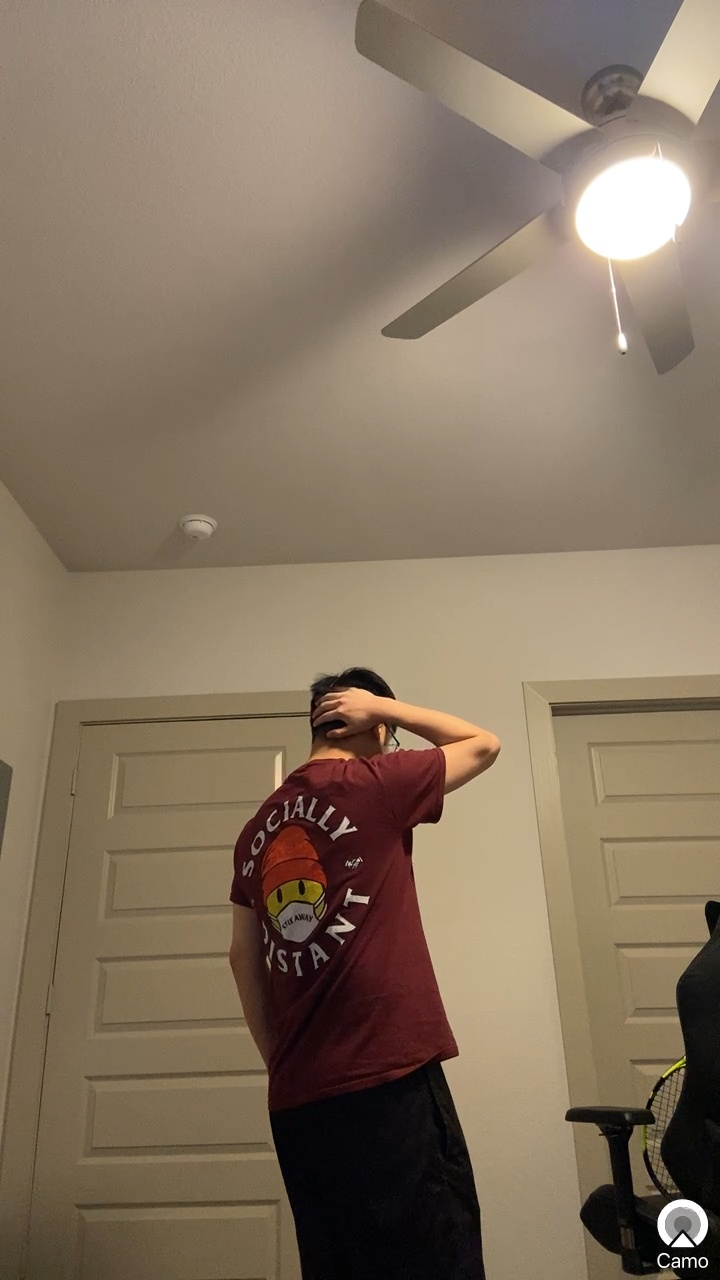Person: (200, 649, 544, 1280)
